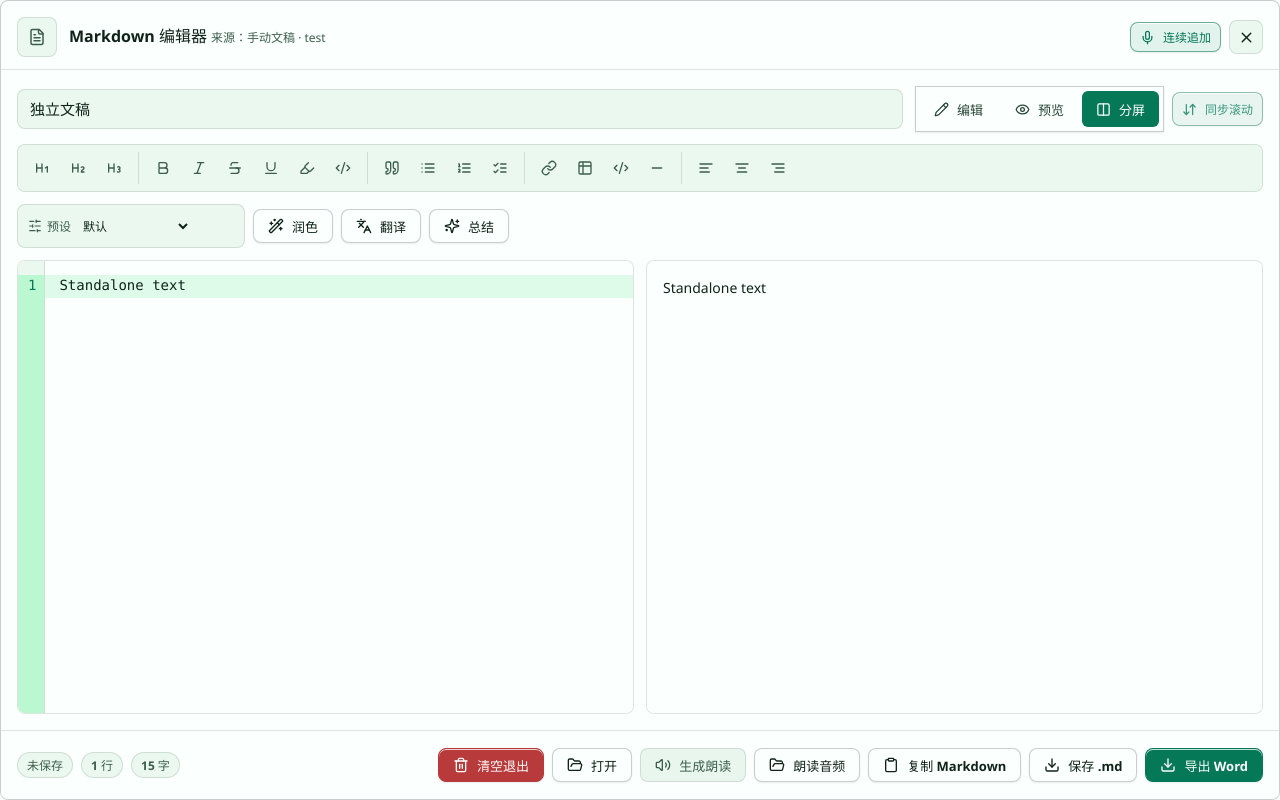
Scenario: standalone Markdown editor App entry › opens a supported Markdown text file after confirming replacement of dirty content
The width and height of the screenshot is (1280, 800).
Click the button with aria-label "打开 Markdown 文件": (592, 765) x1=552 y1=748 x2=632 y2=782
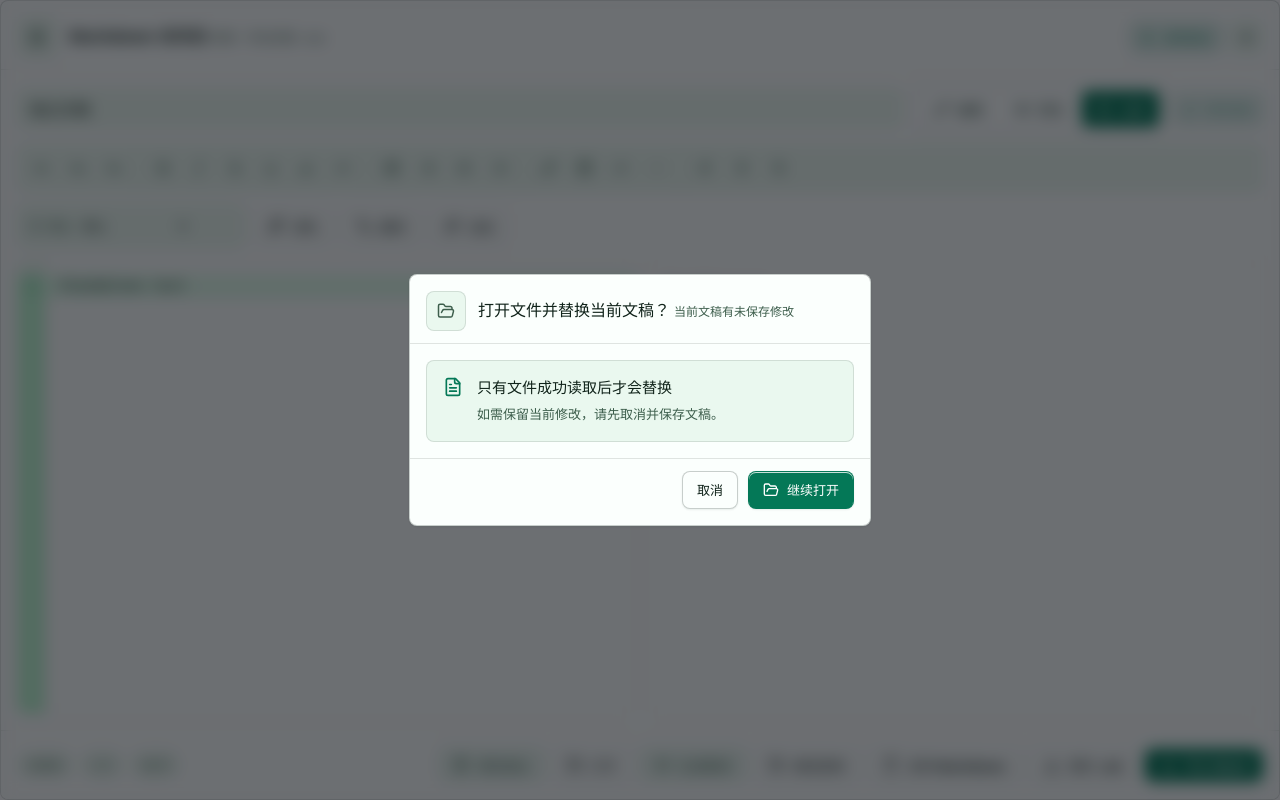
Click the button "继续打开": (801, 490) x1=748 y1=471 x2=854 y2=509
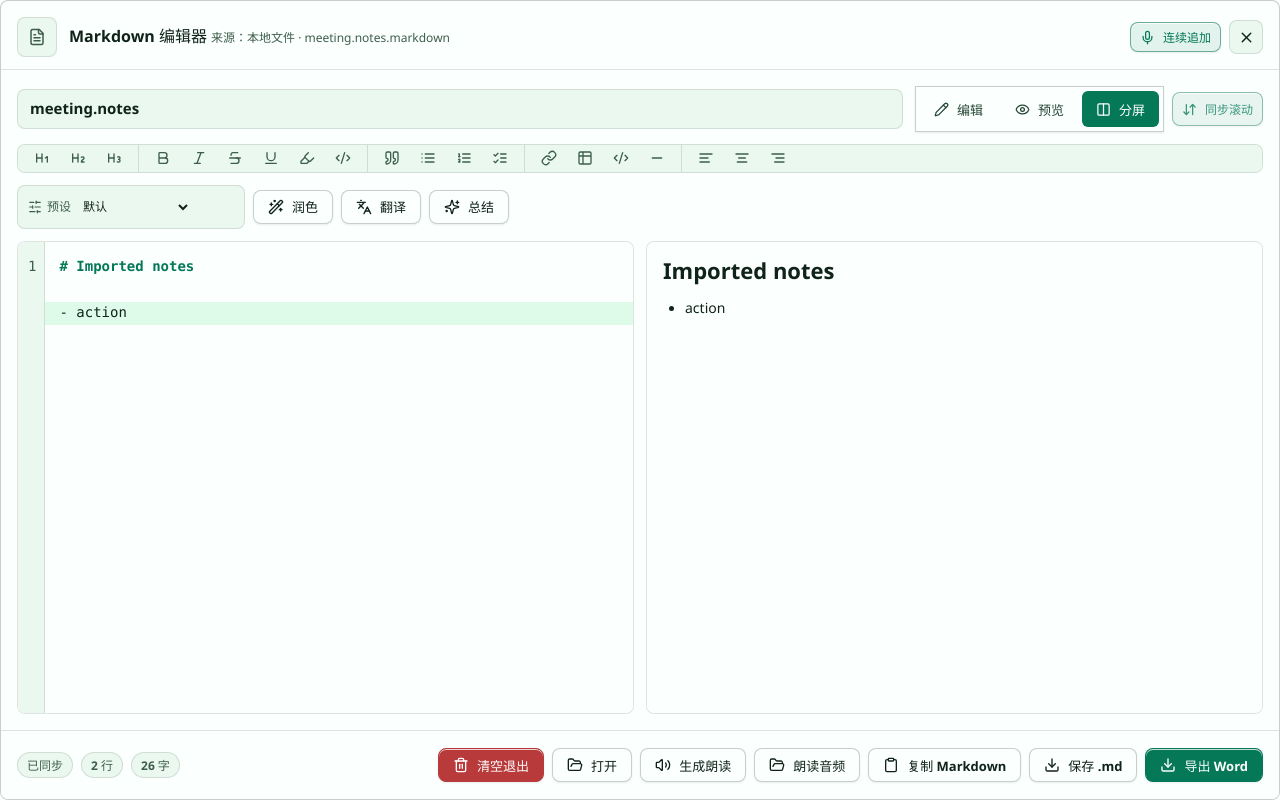
Result: the field showing "meeting.notes" is shown at x1=17 y1=89 x2=903 y2=129
Result: the text "来源：本地文件 · meeting.notes.markdown" is shown at x1=211 y1=30 x2=450 y2=47
